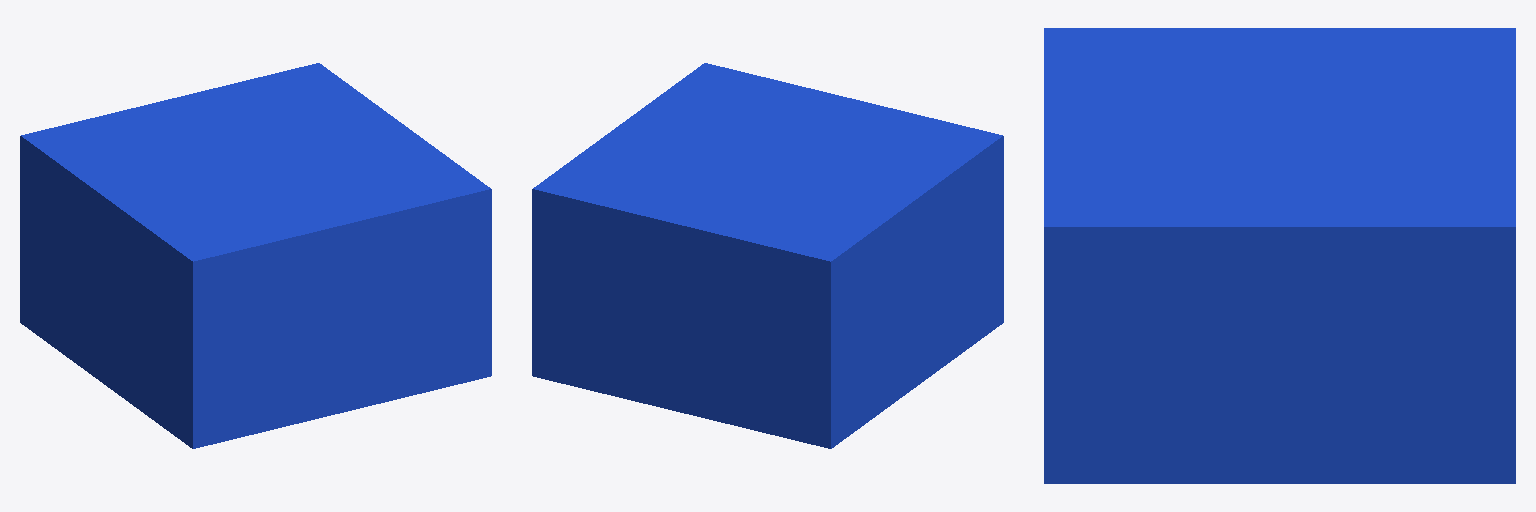
The robot description file, URDF, robot "dase7503_nav":
<?xml version="1.0"?>
<!-- DASE7503 导航用 URDF（M4 维护）
     职责：提供导航/SLAM/AMCL 所需的 TF 链 odom(EKF发布) → base_footprint → base_link → laser/imu/cam。
     约定（见《模块接口说明》）：
       - /scan 的 frame_id = laser
       - EKF 的 base frame = base_footprint，odom frame = odom
     ⚠️ 传感器安装位置是【占位值】，装车后必须实测更新（外参按实测填写，别沿用示例）：
       - laser:  x=0.05 y=-0.05 z=0.15（来自 M1 初版 CAD 的平移值，高度按"雷达高置支架"取 0.15）
       - cam:    x=0.13 y=0.00 z=0.10（前置俯视 QR，待 M1-6 支架定形后实测）
       - imu:    车体中心（板载 ICM42670P， yaw 融合对位置不敏感）
     几何为简化包围盒，仅用于 costmap footprint 与可视化；精确外观见 dase7503_robot.urdf（SolidWorks 导出）。
-->
<robot name="dase7503_nav">

  <link name="base_footprint">
    <visual>
      <origin xyz="0 0 0" rpy="0 0 0"/>
      <geometry><sphere radius="0.005"/></geometry>
      <material name="black"><color rgba="0.1 0.1 0.1 1"/></material>
    </visual>
  </link>

  <link name="base_link">
    <visual>
      <origin xyz="0 0 0" rpy="0 0 0"/>
      <geometry><box size="0.30 0.30 0.18"/></geometry>
      <material name="blue"><color rgba="0.2 0.4 0.9 1"/></material>
    </visual>
    <collision>
      <origin xyz="0 0 0" rpy="0 0 0"/>
      <geometry><box size="0.30 0.30 0.18"/></geometry>
    </collision>
    <inertial>
      <origin xyz="0 0 0" rpy="0 0 0"/>
      <mass value="2.5"/>
      <inertia ixx="0.037" ixy="0" ixz="0" iyy="0.037" iyz="0" izz="0.062"/>
    </inertial>
  </link>

  <joint name="base_joint" type="fixed">
    <parent link="base_footprint"/>
    <child link="base_link"/>
    <origin xyz="0 0 0.09" rpy="0 0 0"/>
  </joint>

  <!-- 雷达 MS200：TODO(实测) 安装外参 -->
  <link name="laser">
    <visual>
      <origin xyz="0 0 0" rpy="0 0 0"/>
      <geometry><cylinder radius="0.035" length="0.05"/></geometry>
      <material name="dark"><color rgba="0.15 0.15 0.15 1"/></material>
    </visual>
  </link>
  <joint name="laser_joint" type="fixed">
    <parent link="base_link"/>
    <child link="laser"/>
    <origin xyz="0.05 -0.05 0.06" rpy="0 0 0"/>
  </joint>

  <!-- 板载 IMU（ICM42670P） -->
  <link name="imu_link"/>
  <joint name="imu_joint" type="fixed">
    <parent link="base_link"/>
    <child link="imu_link"/>
    <origin xyz="0 0 0" rpy="0 0 0"/>
  </joint>

  <!-- 前置相机（M3 扫码）：TODO(实测) -->
  <link name="cam_link"/>
  <joint name="cam_joint" type="fixed">
    <parent link="base_link"/>
    <child link="cam_link"/>
    <origin xyz="0.13 0 0.01" rpy="0 0.5 0"/>
  </joint>

</robot>

--- What the picture shows (computed from the rendered views, not written in the file) ---
Views: 3 orthographic renders of the robot side by side, from view 1: azimuth 30°, elevation 25°; view 2: azimuth 150°, elevation 25°; view 3: azimuth 270°, elevation 25°.
Model dase7503_nav with 5 links and 4 joints (4 fixed), rooted at base_footprint, posed all joints at 0.
Links seen in each view (by area): view 1: base_link; view 2: base_link; view 3: base_link.
Link boxes in pixels (x1,y1,x2,y2): base_link: [20, 63, 491, 448]; base_link: [532, 63, 1003, 448]; base_link: [1044, 28, 1515, 483].
Size in the robot's own frame: 0.3 by 0.3 by 0.185 metres.
Geometry: primitives only (box / cylinder / sphere), no mesh files.
